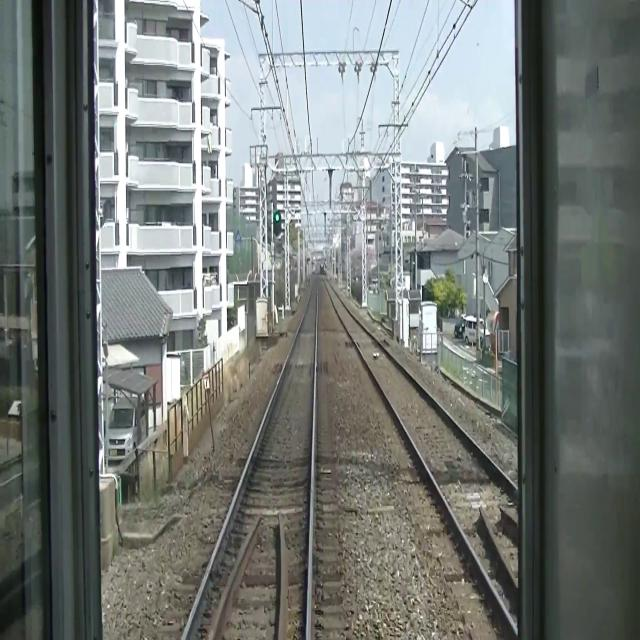rail-track: (323, 275, 516, 621), (191, 274, 317, 639)
